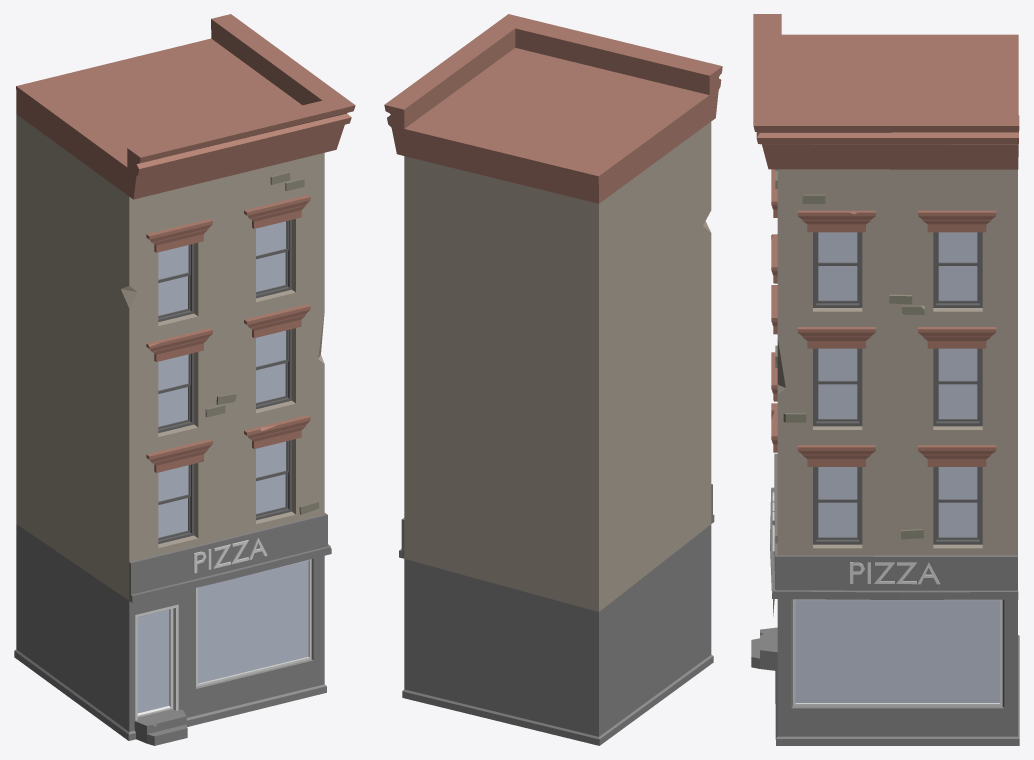
The model's file is nyc-shop-corner.glb.
3 views of the same model, side by side, from view 1: azimuth 30°, elevation 25°; view 2: azimuth 150°, elevation 25°; view 3: azimuth 270°, elevation 25° (orthographic). The views are drawn at different scales.
Visible parts, largest first — view 1: PizzaCorner; view 2: PizzaCorner; view 3: PizzaCorner.
Part boxes in pixels (x1,y1,x2,y2): PizzaCorner: (14, 14, 355, 745); PizzaCorner: (384, 14, 722, 745); PizzaCorner: (751, 14, 1019, 745).
Size of the model in its own units: 1.33 by 3.47 by 1.34.
